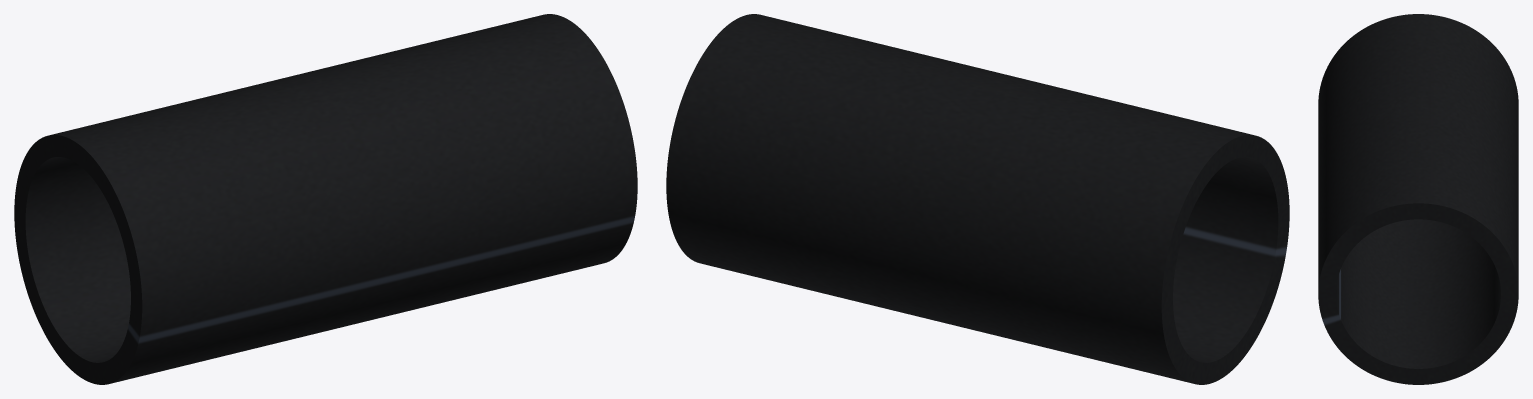
File: mangueira_cobertura.glb
The picture shows the model from 3 angles, left to right: view 1: azimuth 30°, elevation 25°; view 2: azimuth 150°, elevation 25°; view 3: azimuth 270°, elevation 25°; orthographic projection. The views are drawn at different scales.
Visible parts, largest first — view 1: cobertura; view 2: cobertura; view 3: cobertura.
Part boxes in pixels (x1,y1,x2,y2): cobertura: (14, 14, 637, 384); cobertura: (666, 14, 1289, 384); cobertura: (1318, 14, 1518, 384).
Size of the model in its own units: 3.8 by 1.7 by 1.7.
Materials: 1 (1 with a texture image).
